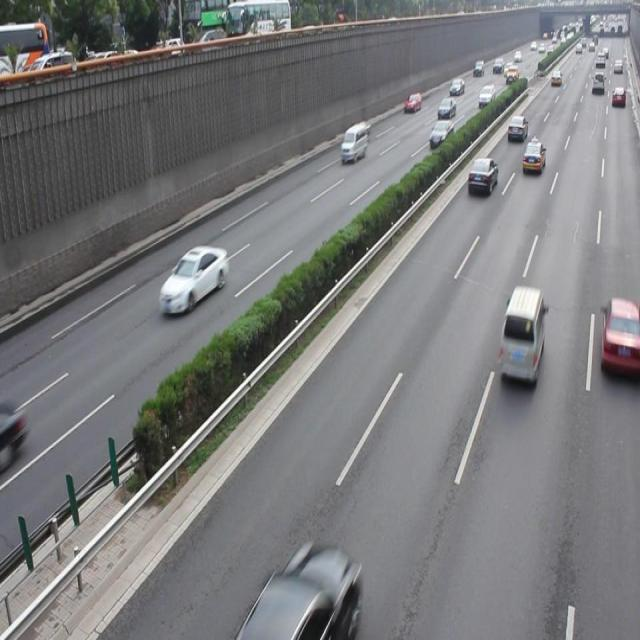car: (158, 246, 228, 316), (599, 296, 640, 378), (466, 156, 497, 195), (521, 139, 544, 174)
truck: (498, 285, 544, 387)
